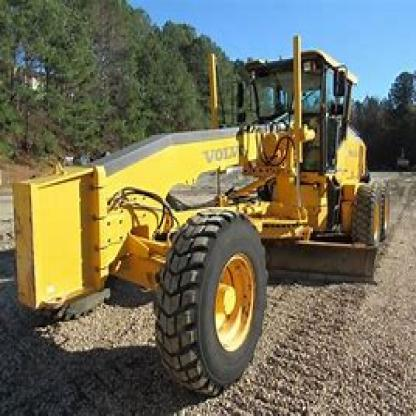bull_dozer/loader/grader: (5, 30, 405, 386)
